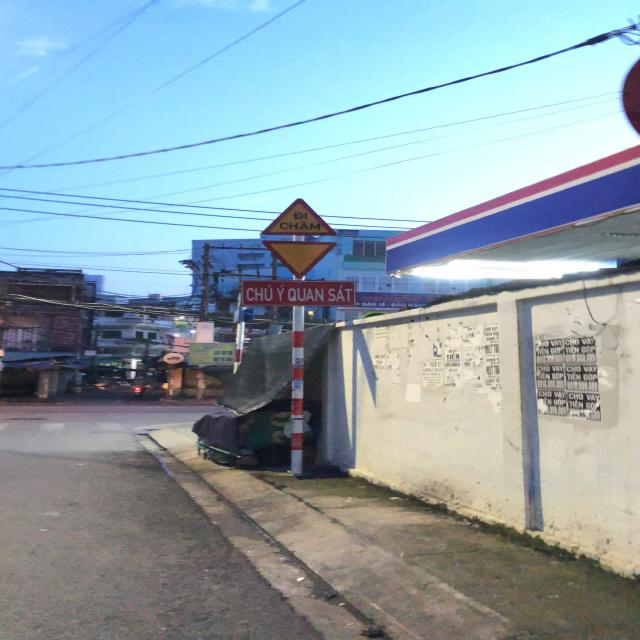Bien bao di cham: (262, 195, 347, 242)
Bien bao giao nhau voi duong uu tien: (257, 238, 350, 279)
